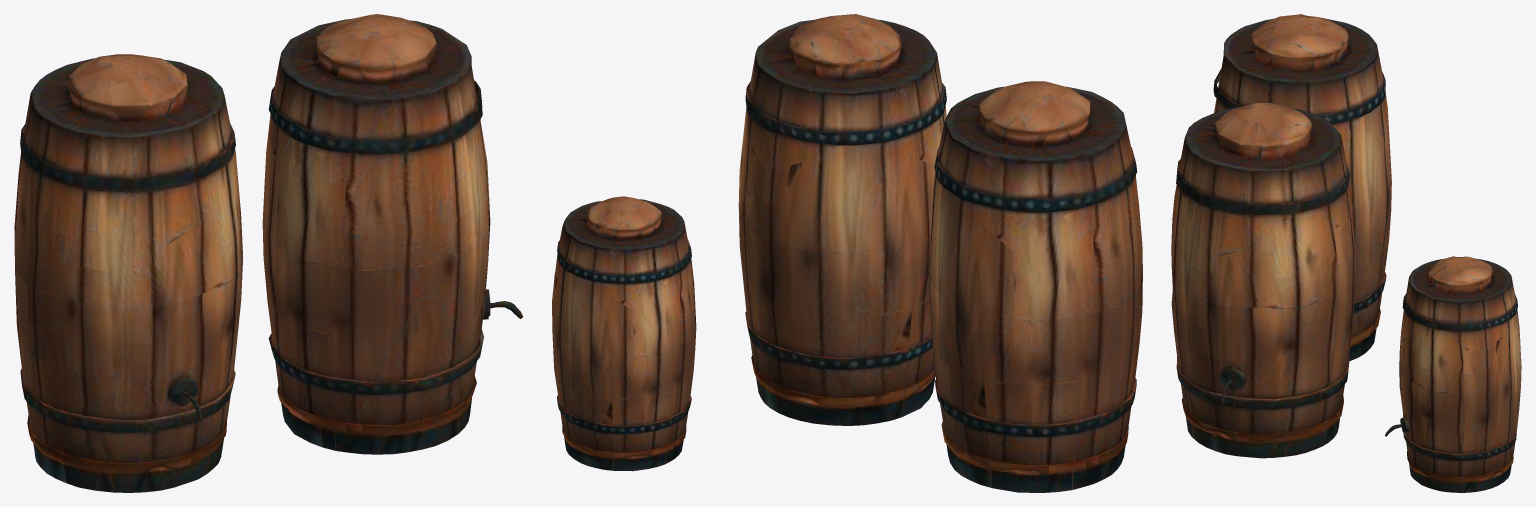
File: barrel-cluster.lod1.glb
3 views of the same model, side by side, from view 1: azimuth 30°, elevation 25°; view 2: azimuth 150°, elevation 25°; view 3: azimuth 270°, elevation 25° (orthographic). The views are drawn at different scales.
Size of the model in its own units: 1.22 by 0.9 by 0.9073.
1 material, 1 textured.
